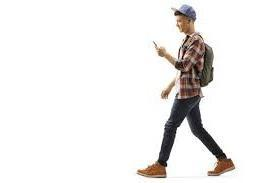Human: (154, 3, 240, 178)
